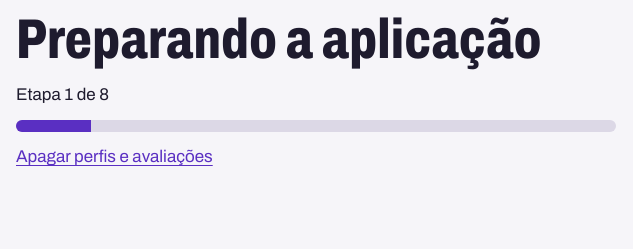
Test: TelaPreparando › o link abre a gestão restrita e o botão Voltar retorna
This screenshot has width=633, height=249.
Click the link "Apagar perfis e avaliações".
click(114, 157)  # box [16,147,213,166]
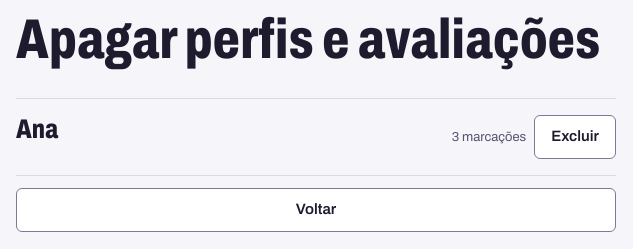
Now the text "Ana" is shown, box [16,114,58,144]
Click the button "Voltar".
click(316, 210)  # box [16,188,616,232]
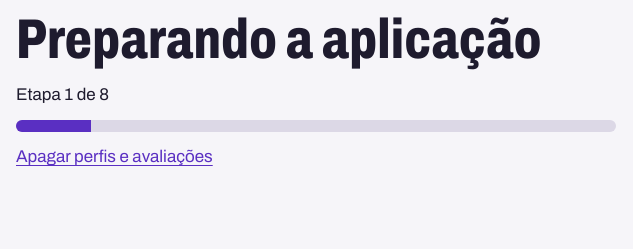
Now the text "Etapa 1 de 8" is shown, box [16,85,109,104]
